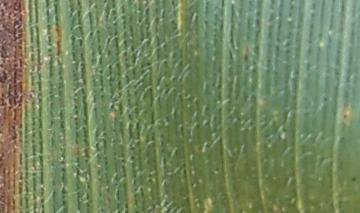tarspot: (348, 173, 360, 186), (320, 93, 330, 105)
